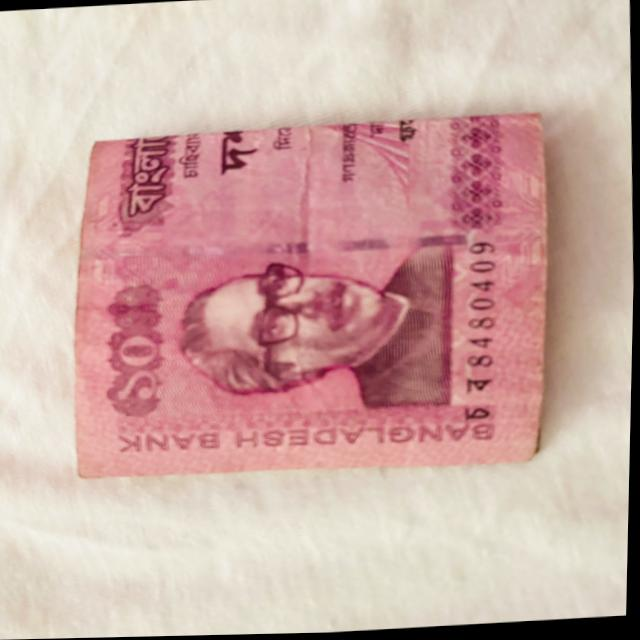Taka: (84, 104, 569, 489)
